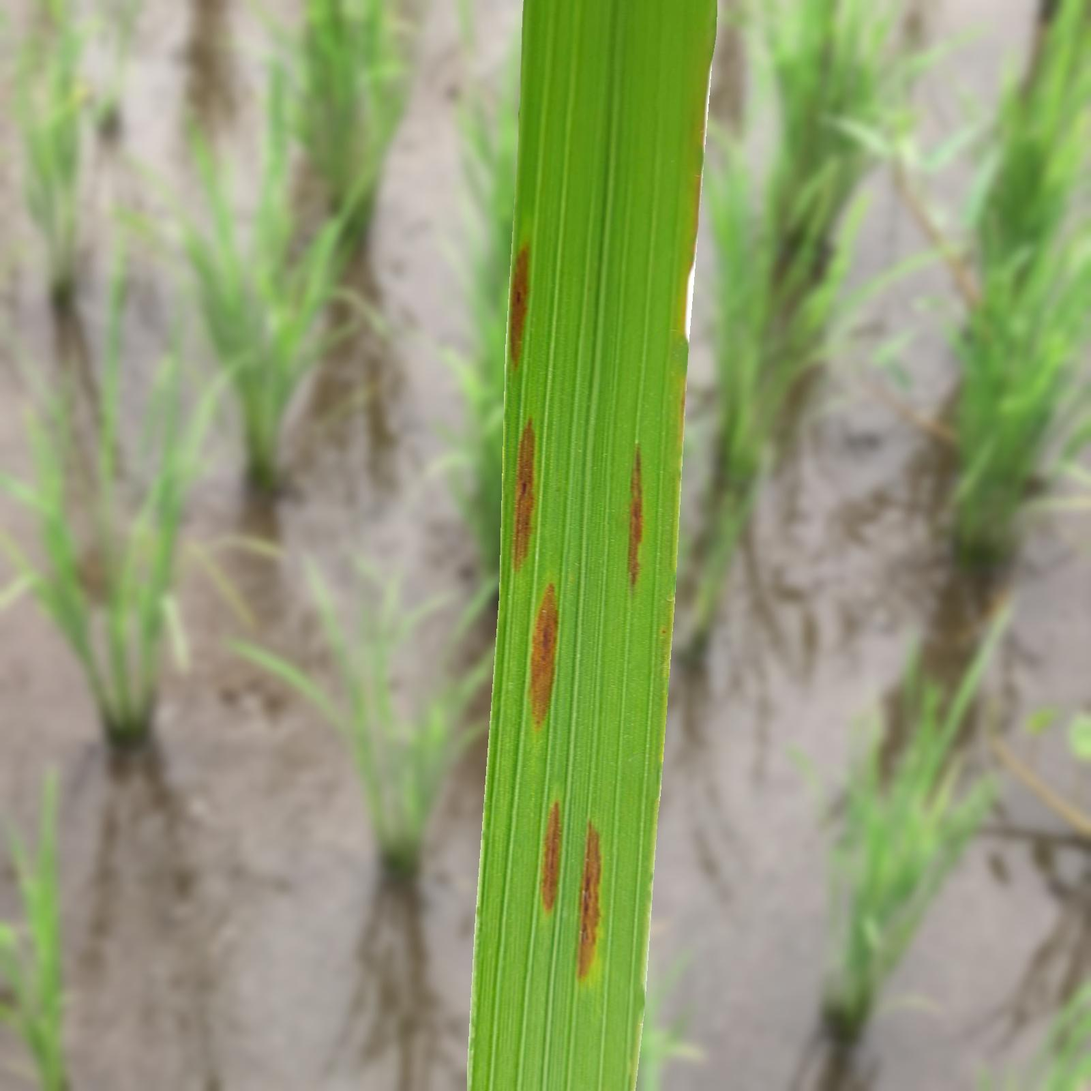LEAF: (467, 0, 717, 1090)
NBS: (529, 584, 558, 730), (578, 822, 600, 979), (513, 419, 535, 571), (509, 243, 528, 365), (628, 444, 643, 587), (542, 801, 561, 912)
